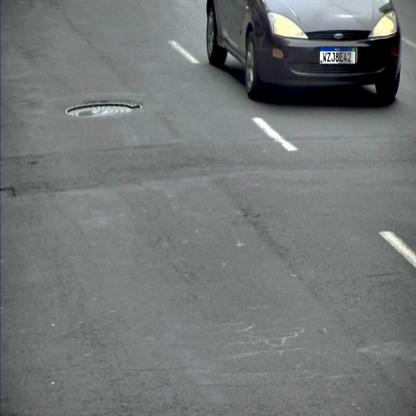PlacaM: (319, 46, 356, 64)
